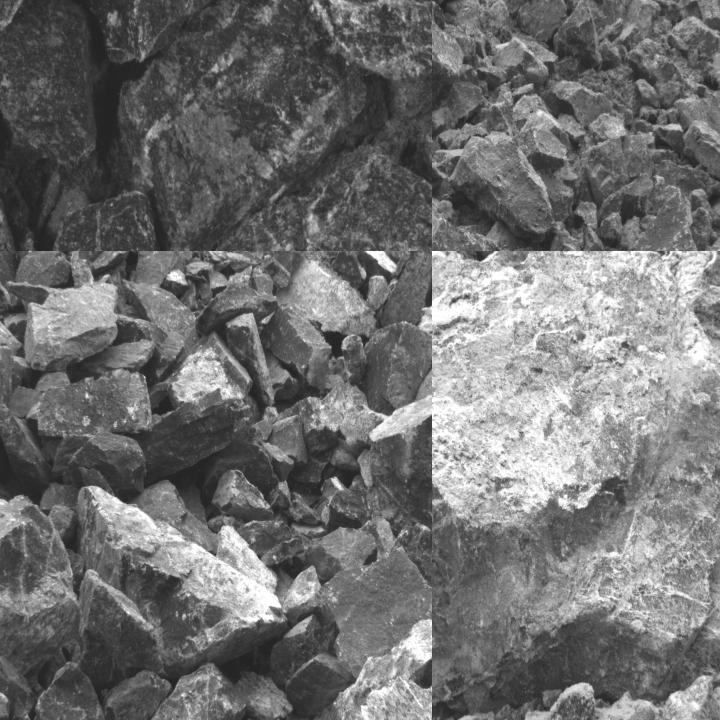stone: (432, 251, 719, 719), (111, 0, 363, 250), (77, 488, 281, 668), (189, 149, 431, 250), (321, 524, 431, 677), (0, 0, 97, 164), (0, 497, 78, 666), (275, 0, 431, 78), (136, 390, 259, 485), (451, 132, 554, 240), (68, 572, 163, 687), (72, 0, 236, 62), (371, 405, 431, 557), (277, 251, 378, 339), (23, 282, 119, 368), (37, 370, 154, 434), (432, 1, 493, 109), (168, 332, 254, 408), (365, 323, 431, 415), (147, 663, 245, 719), (0, 406, 54, 501), (52, 434, 145, 489), (261, 308, 329, 382), (432, 220, 575, 250), (552, 0, 602, 83), (35, 665, 110, 719), (597, 170, 674, 222), (581, 134, 629, 204), (305, 528, 375, 575), (211, 472, 274, 524), (106, 672, 174, 719), (678, 88, 719, 160), (553, 82, 612, 128), (666, 16, 719, 67), (471, 81, 517, 138), (494, 37, 548, 85), (515, 127, 567, 172), (322, 477, 373, 522), (130, 251, 192, 288), (516, 0, 567, 44), (683, 123, 719, 183), (667, 0, 719, 31), (624, 132, 658, 179), (412, 124, 431, 201), (268, 251, 305, 289), (556, 110, 586, 144), (587, 114, 626, 140), (654, 121, 683, 154), (634, 77, 660, 108), (616, 215, 639, 250), (575, 200, 599, 231), (598, 214, 622, 242), (549, 229, 579, 250), (705, 45, 719, 89), (370, 251, 427, 261), (582, 226, 605, 250)
